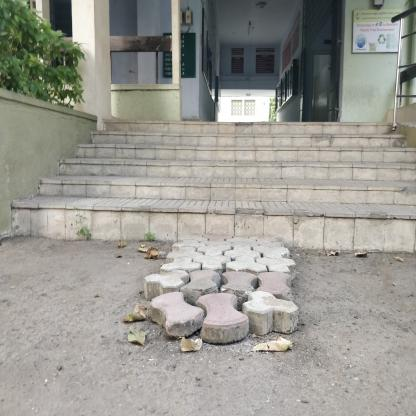stairs: (125, 124, 361, 254)
